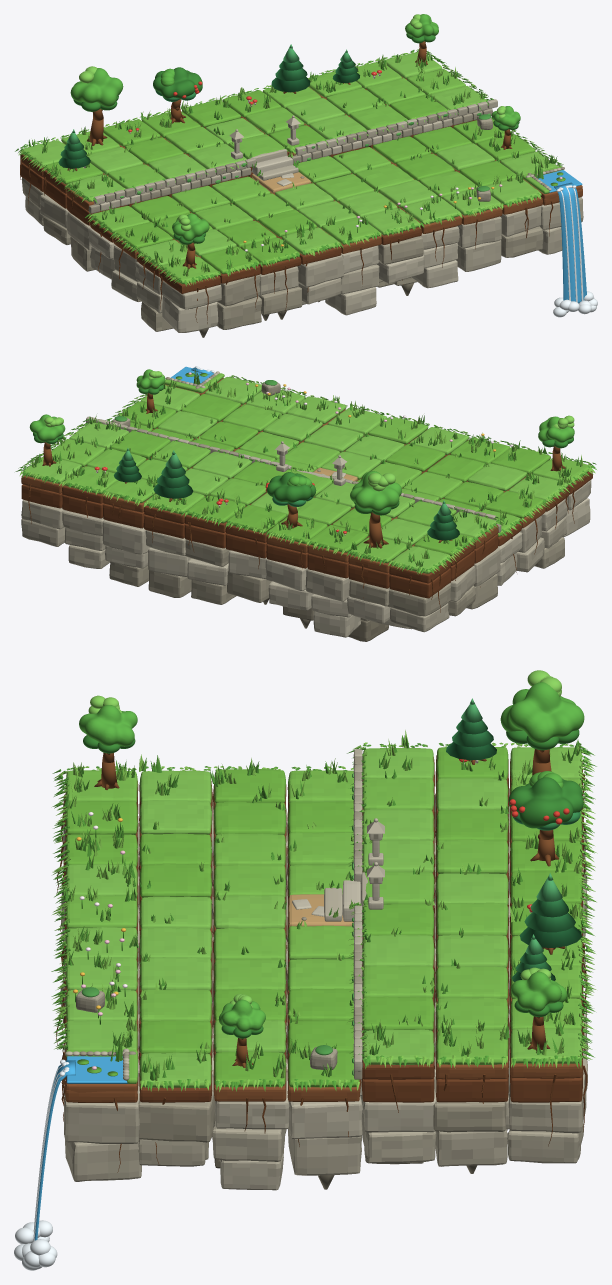
The model's file is ile-jeu.glb.
3 views of the same model, one above another, from view 1: azimuth 30°, elevation 25°; view 2: azimuth 150°, elevation 25°; view 3: azimuth 270°, elevation 25° (orthographic). The views are drawn at different scales.
Visible parts, largest first — view 1: eau.001, pierre.187, feuillage, pierre.189, pierre.203, pierre.192, pierre.202, pierre.186, pierre.205, case_herbe.047, case_herbe.043, feuillage.001 (+97 smaller); view 2: feuillage, pierre, pierre.017, pierre.004, case_herbe.050, case_herbe.055, case_herbe.052, case_herbe.047, case_herbe.054, pierre.010, feuillage.001, case_herbe.026 (+109 smaller); view 3: feuillage, pierre.206, pierre.184, pierre.207, pierre.122, pierre.123, feuillage.001, pierre.053, pierre.023, case_herbe.050, case_herbe.013, pierre.155 (+88 smaller).
Boxes of the visible parts, x1,y1,x2,y2 form: eau.001: [554, 182, 586, 303]; pierre.187: [162, 296, 218, 332]; feuillage: [70, 68, 123, 106]; pierre.189: [217, 296, 261, 329]; pierre.203: [456, 240, 501, 271]; pierre.192: [297, 255, 344, 287]; pierre.202: [457, 216, 501, 248]; pierre.186: [161, 280, 221, 309]; pierre.205: [501, 226, 543, 257]; case_herbe.047: [436, 143, 494, 170]; case_herbe.043: [275, 183, 333, 210]; feuillage.001: [153, 67, 202, 98]; feuillage: [350, 471, 401, 511]; pierre: [387, 583, 450, 616]; pierre.017: [102, 520, 149, 554]; pierre.004: [305, 569, 350, 601]; case_herbe.050: [467, 463, 527, 491]; case_herbe.055: [263, 413, 322, 441]; case_herbe.052: [385, 444, 445, 471]; case_herbe.047: [157, 411, 217, 438]; case_herbe.054: [304, 424, 363, 452]; pierre.010: [227, 570, 271, 602]; feuillage.001: [266, 472, 316, 502]; case_herbe.026: [192, 451, 251, 479]; feuillage: [500, 682, 584, 743]; pierre.206: [64, 1076, 139, 1143]; pierre.184: [138, 1077, 215, 1142]; pierre.207: [65, 1140, 141, 1181]; pierre.122: [288, 1095, 362, 1139]; pierre.123: [288, 1128, 361, 1175]; feuillage.001: [508, 777, 583, 828]; pierre.053: [435, 1129, 507, 1166]; pierre.023: [508, 1074, 586, 1133]; case_herbe.050: [139, 800, 211, 834]; case_herbe.013: [436, 839, 508, 874]; pierre.155: [212, 1119, 286, 1161].
Bounding box in the file's own units: 20.77 × 10.37 × 15.76.
